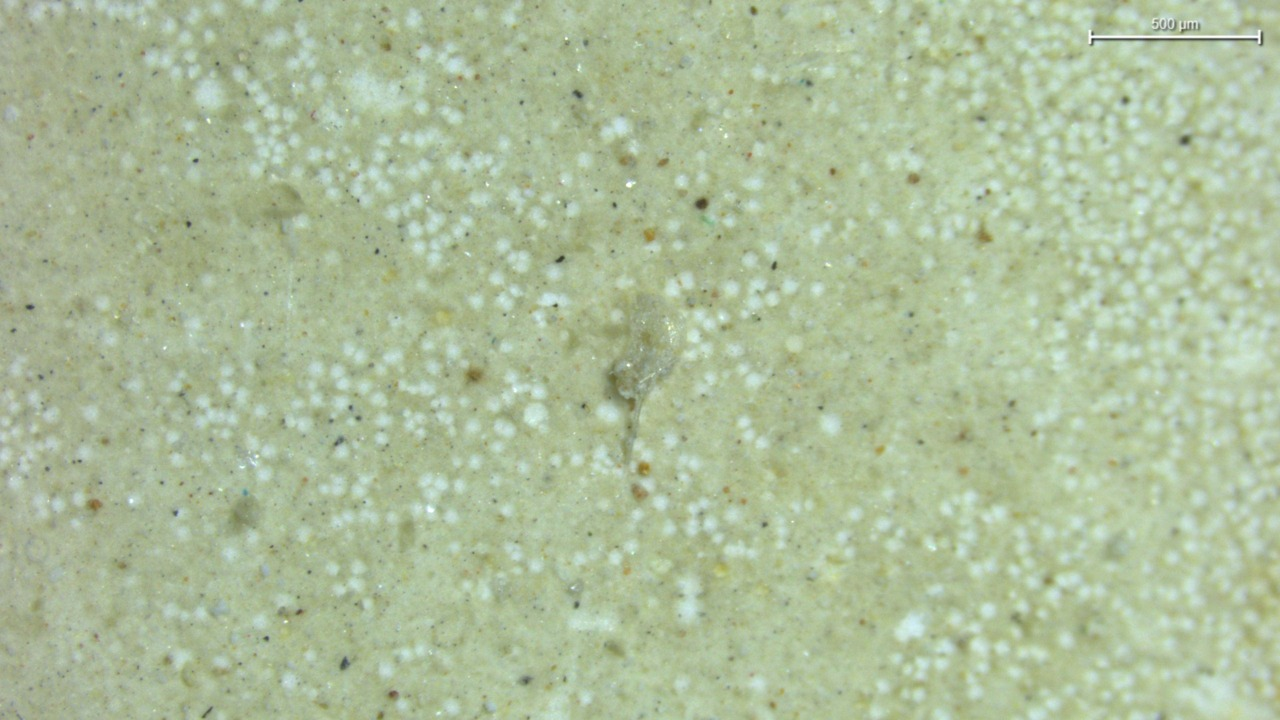microplastic_fragment: (608, 294, 677, 462)
